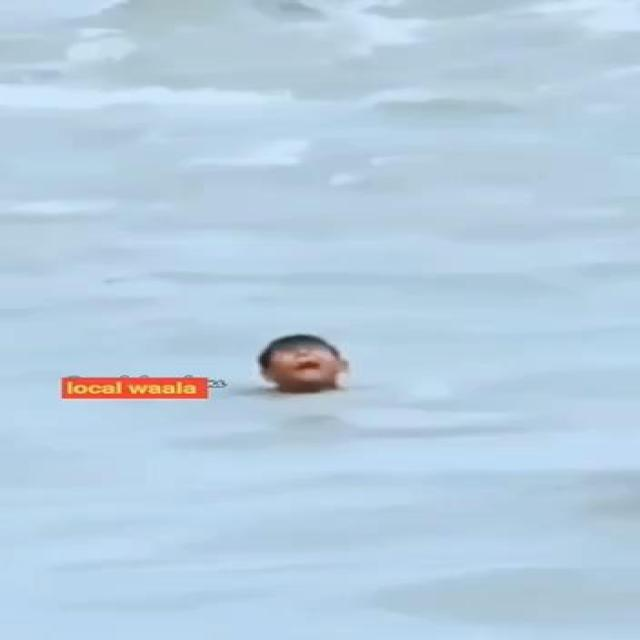Out of Water: (235, 324, 378, 400)
